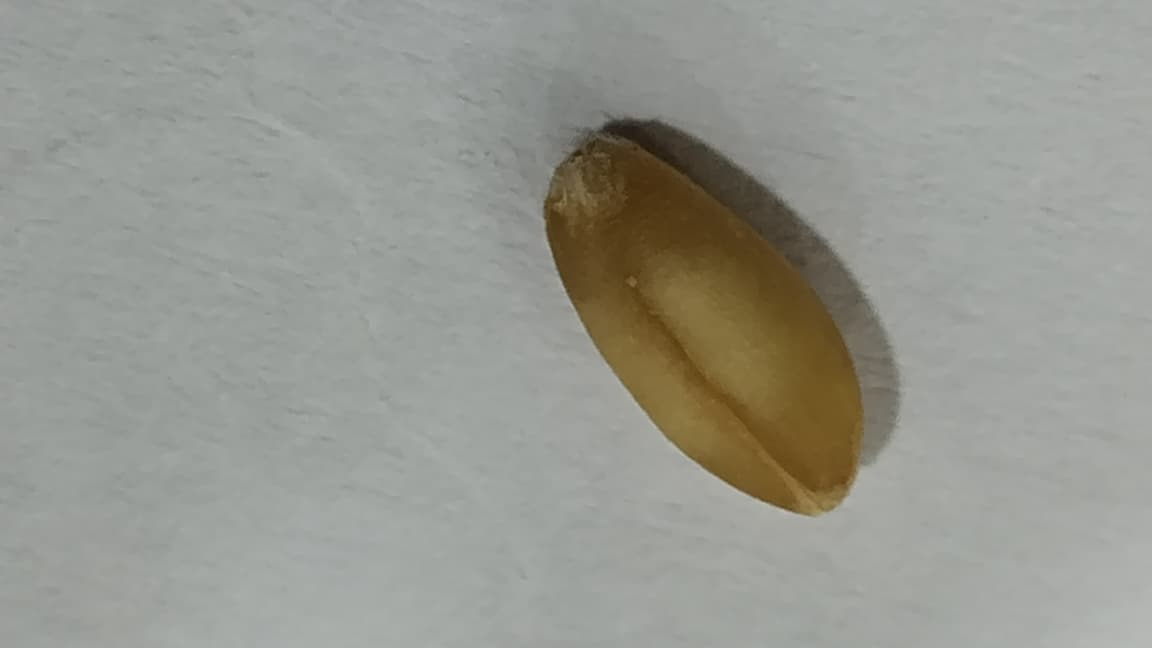healthy: (546, 134, 862, 514)
